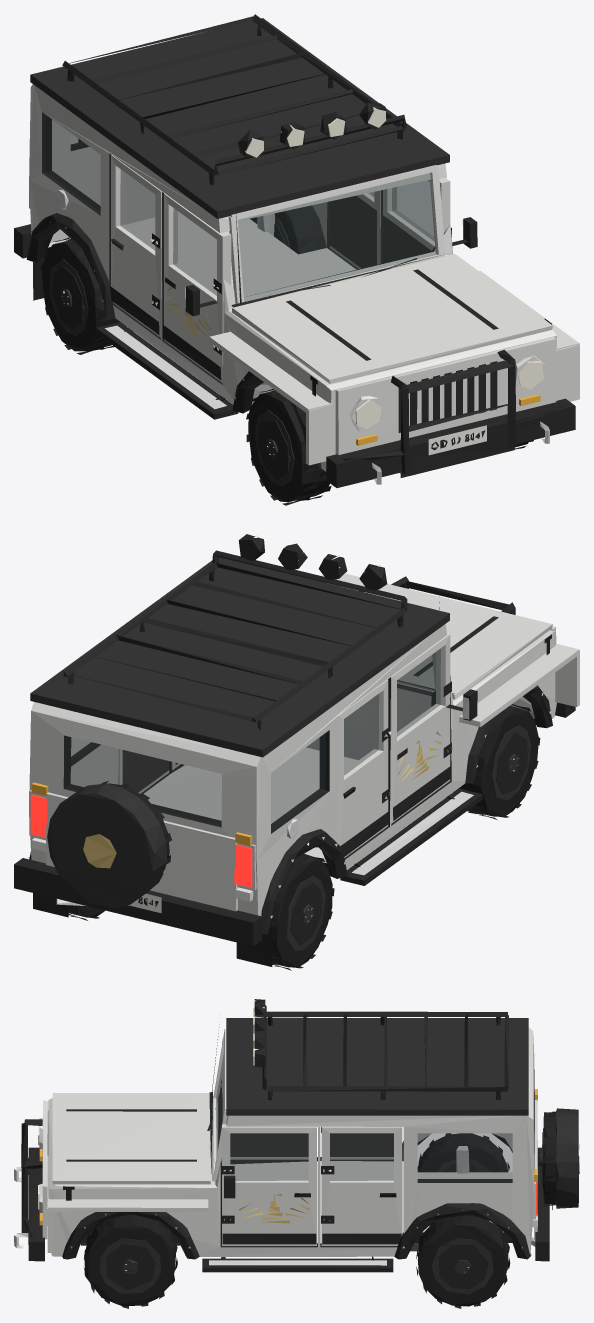
Rendered from Car_Model_LOD2.fbx.
The picture shows the model from 3 angles, top to bottom: view 1: azimuth 30°, elevation 25°; view 2: azimuth 150°, elevation 25°; view 3: azimuth 270°, elevation 25°; orthographic projection. The views are drawn at different scales.
Parts seen in each view (by area): view 1: SM_Jeep_LOD2; view 2: SM_Jeep_LOD2; view 3: SM_Jeep_LOD2.
Boxes of the visible parts, box(x1,y1,x2,y2) form: SM_Jeep_LOD2: box(14, 14, 579, 505); SM_Jeep_LOD2: box(14, 534, 579, 970); SM_Jeep_LOD2: box(14, 999, 579, 1308).
Size of the model in its own units: 2.24 by 2.22 by 4.77.
